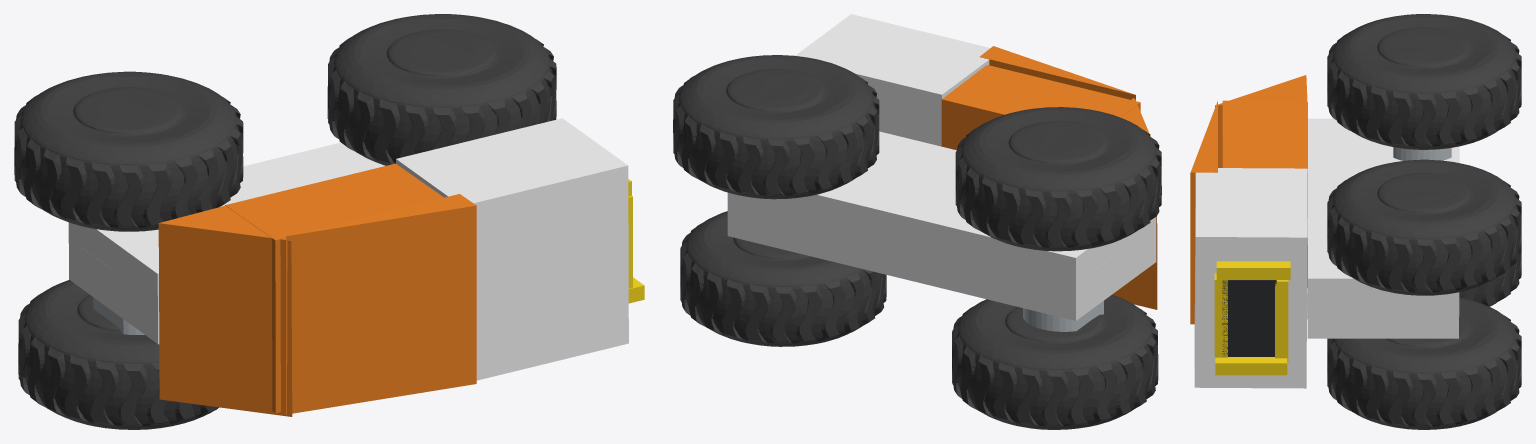
Rendered from tinker.obj.
3 renders of one model, left to right at view 1: azimuth 30°, elevation 25°; view 2: azimuth 150°, elevation 25°; view 3: azimuth 270°, elevation 25°, orthographic. The views are drawn at different scales.
Parts seen in each view (by area): view 1: obj_5, obj_10, obj_2, obj_3, obj_6, obj_0, obj_4, obj_9, obj_7; view 2: obj_4, obj_2, obj_3, obj_0, obj_1, obj_5, obj_9, obj_10, obj_6, obj_7; view 3: obj_3, obj_2, obj_1, obj_5, obj_4, obj_9, obj_12, obj_10, obj_6, obj_13, obj_11, obj_0 (+3 smaller).
Part boxes in pixels (box(x1,y1,x2,y2)): obj_5: box(396, 118, 628, 380); obj_10: box(286, 194, 476, 414); obj_2: box(14, 71, 243, 231); obj_3: box(327, 14, 556, 165); obj_6: box(158, 205, 292, 416); obj_0: box(18, 280, 219, 429); obj_4: box(68, 142, 385, 344); obj_9: box(225, 163, 443, 413); obj_7: box(82, 248, 144, 334); obj_4: box(727, 131, 1156, 320); obj_2: box(955, 107, 1161, 251); obj_3: box(673, 55, 879, 199); obj_0: box(952, 294, 1158, 429); obj_1: box(680, 211, 886, 346); obj_5: box(795, 14, 990, 146); obj_9: box(941, 65, 1140, 150); obj_10: box(979, 46, 1135, 100); obj_6: box(1112, 98, 1157, 309); obj_7: box(1023, 257, 1113, 331); obj_3: box(1327, 159, 1521, 295); obj_2: box(1327, 14, 1521, 149); obj_1: box(1327, 297, 1521, 429); obj_5: box(1194, 168, 1307, 388); obj_4: box(1307, 118, 1459, 338); obj_9: box(1222, 100, 1307, 318); obj_12: box(1222, 280, 1276, 356); obj_10: box(1190, 101, 1217, 324); obj_6: box(1215, 75, 1307, 167); obj_13: box(1216, 261, 1290, 279); obj_11: box(1215, 357, 1287, 375); obj_0: box(1459, 251, 1521, 306).
Size of the model in its own units: 129 by 69 by 85.1.
